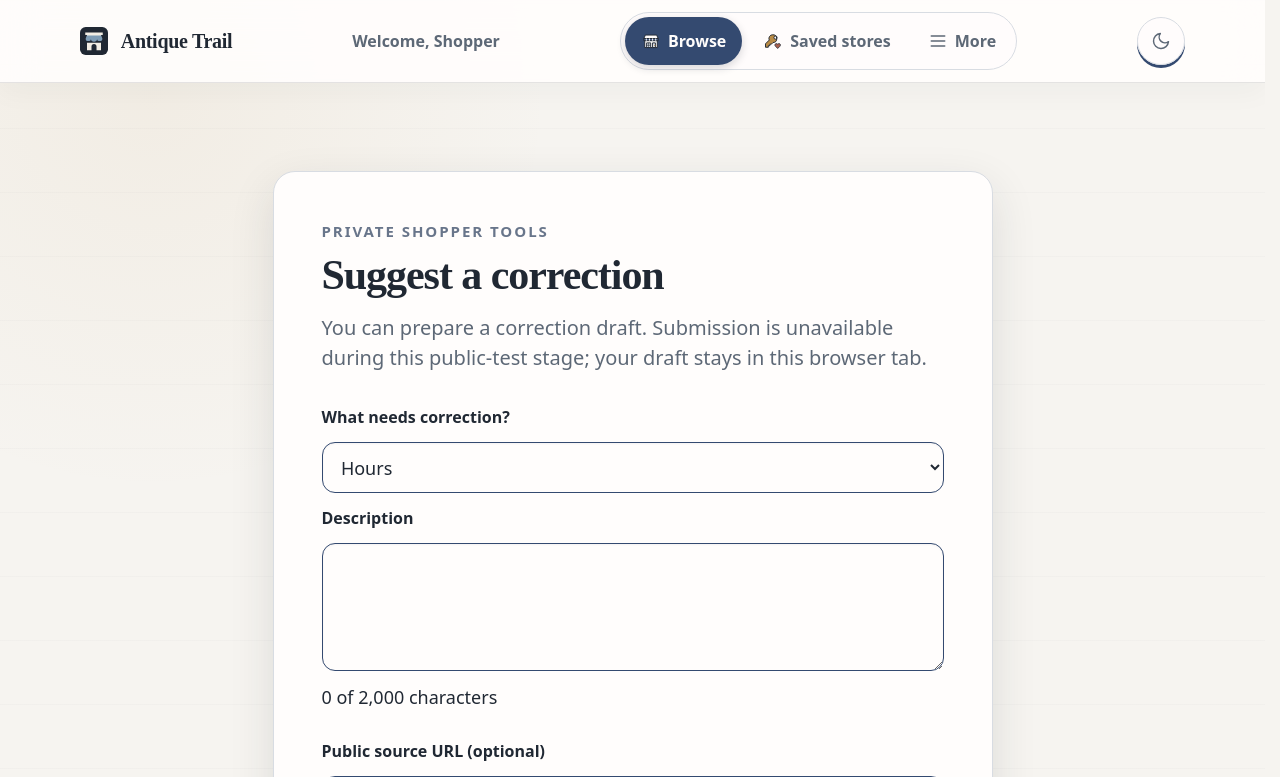
it: app shell › keeps direct public-test correction routes draft-only for signed-in shoppers
Check: the heading "Suggest a correction" is shown, box [322,252,664,298]
Type "Weekend hours changed" into the text box labelled "Description".
click(632, 607); type("Weekend hours changed")  # box [322,543,944,671]
(page scrolled)
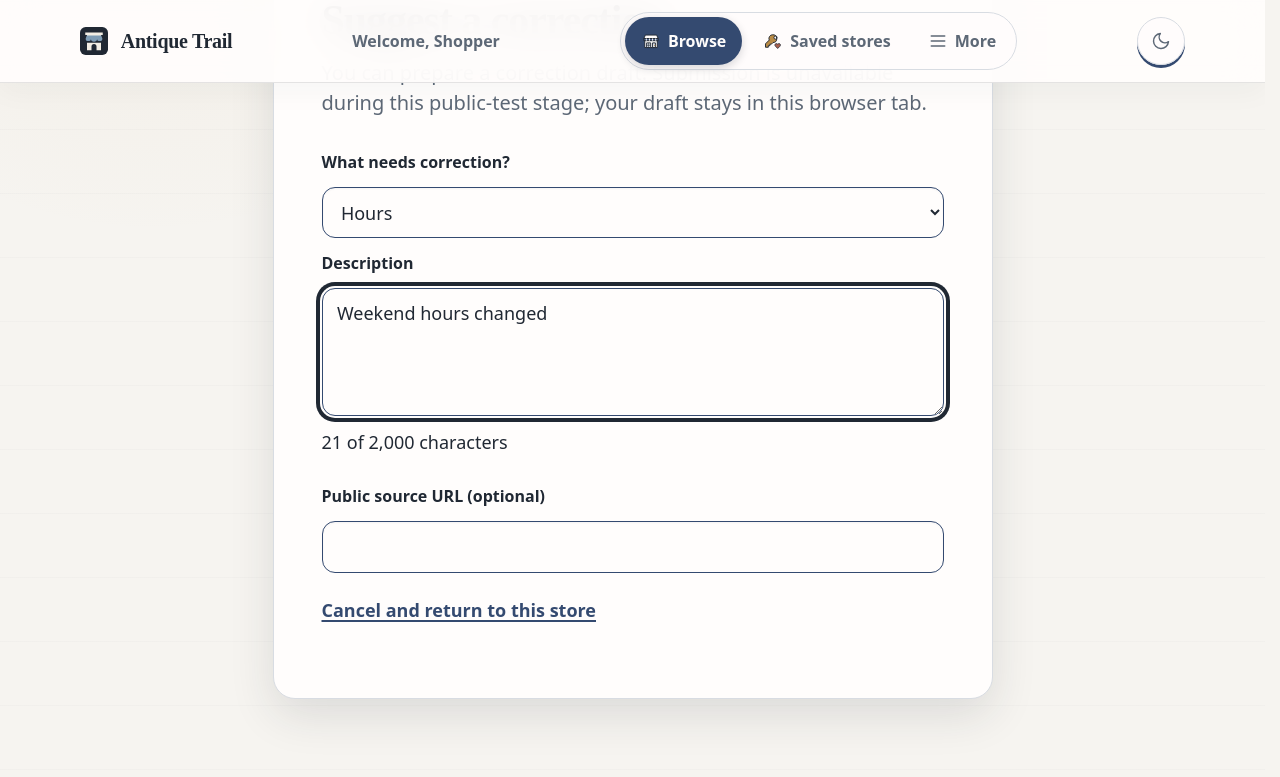
Submit the form labelled "Description", box [322,150,944,650]
Click the link "Cancel and return to this store".
click(459, 610)  # box [322,598,596,622]
(page scrolled)
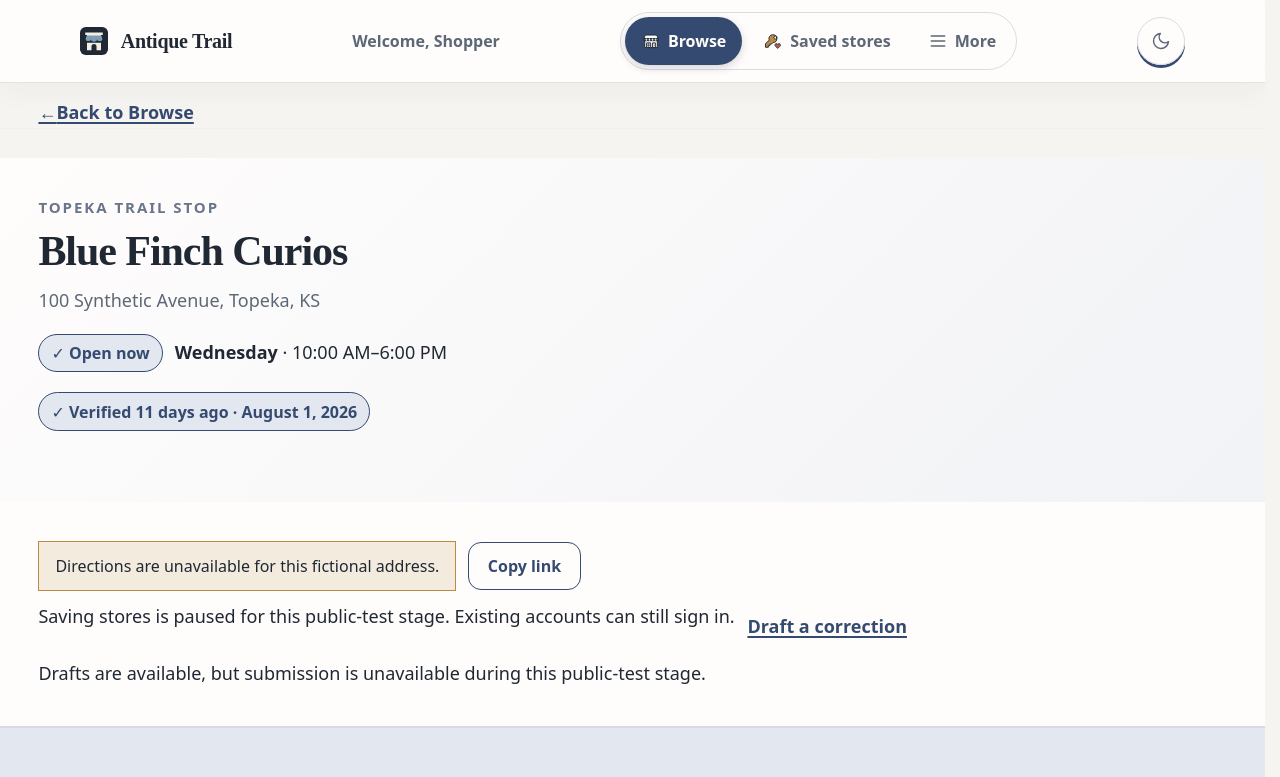
Check: the heading "Blue Finch Curios" is shown, box [38,228,347,274]
Click the link "Draft a correction".
click(827, 626)  # box [747,614,907,638]
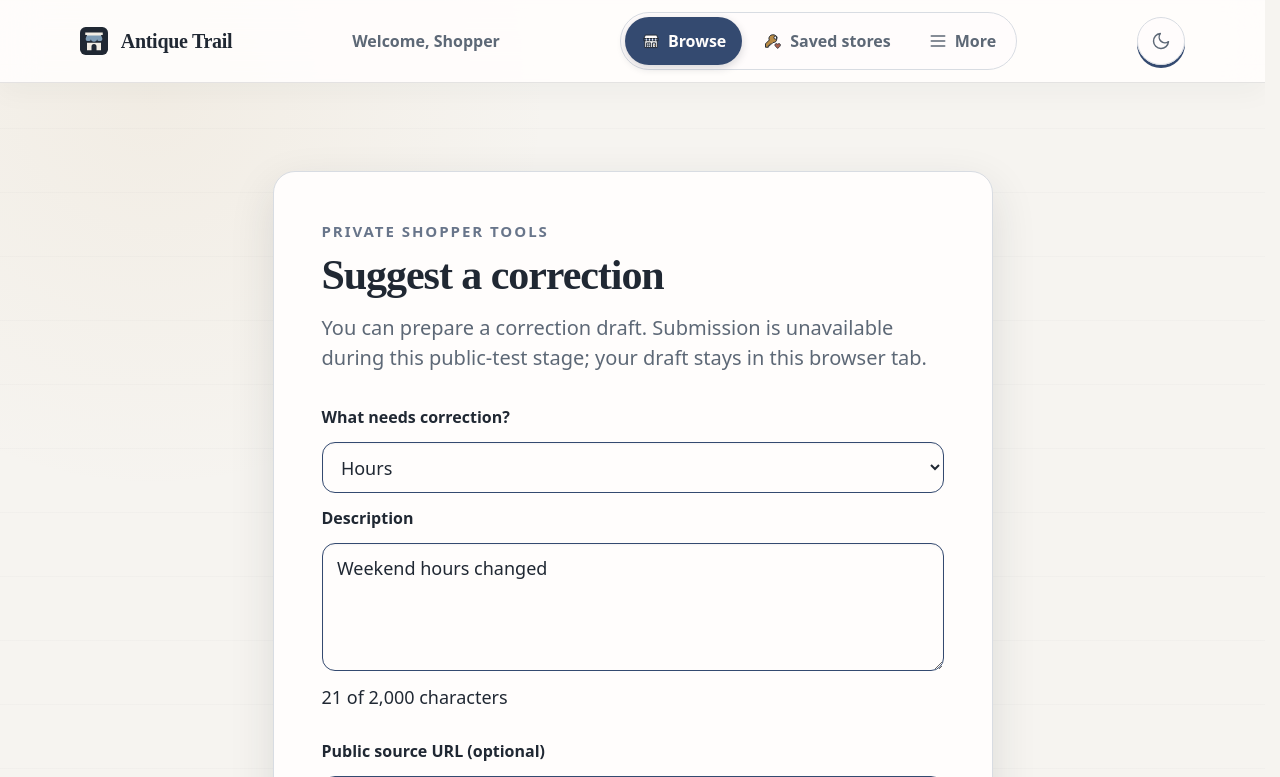
Check: the text box labelled "Description" holds "Weekend hours changed", box [322,543,944,671]
